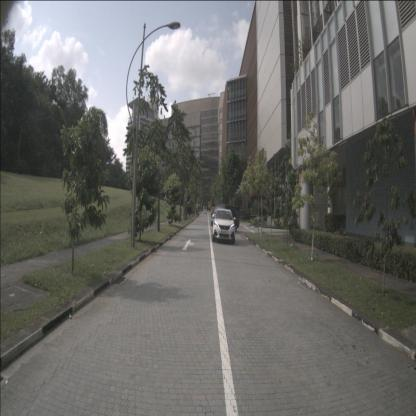vehicle-car: (212, 208, 236, 245), (210, 203, 240, 232), (211, 206, 217, 217), (203, 206, 207, 214)
